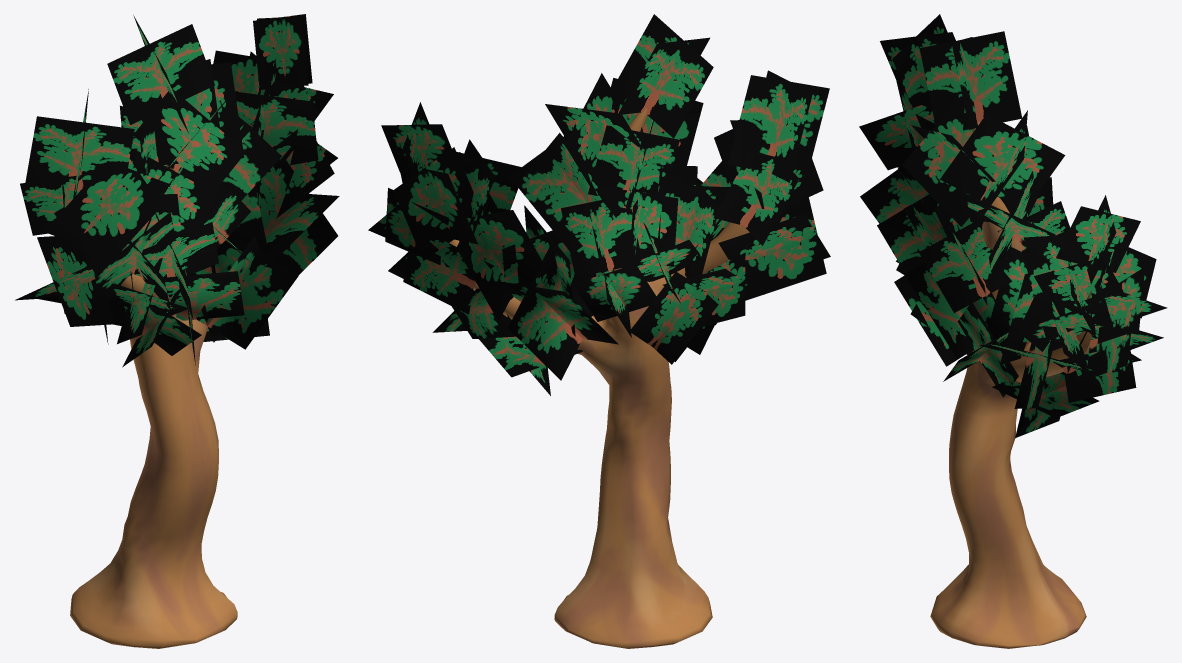
File: Tree2.fbx
The picture shows the model from 3 angles, left to right: view 1: azimuth 30°, elevation 25°; view 2: azimuth 150°, elevation 25°; view 3: azimuth 270°, elevation 25°; orthographic projection. The views are drawn at different scales.
Visible parts, largest first — view 1: Leaves, Tree2; view 2: Leaves, Tree2; view 3: Leaves, Tree2.
Boxes of the visible parts, x1,y1,x2,y2 form: Leaves: (15,14,339,367); Tree2: (70,164,237,648); Leaves: (368,14,830,395); Tree2: (449,108,749,648); Leaves: (859,14,1167,437); Tree2: (930,121,1091,648).
Size of the model in its own units: 1233 by 903 by 1881.
